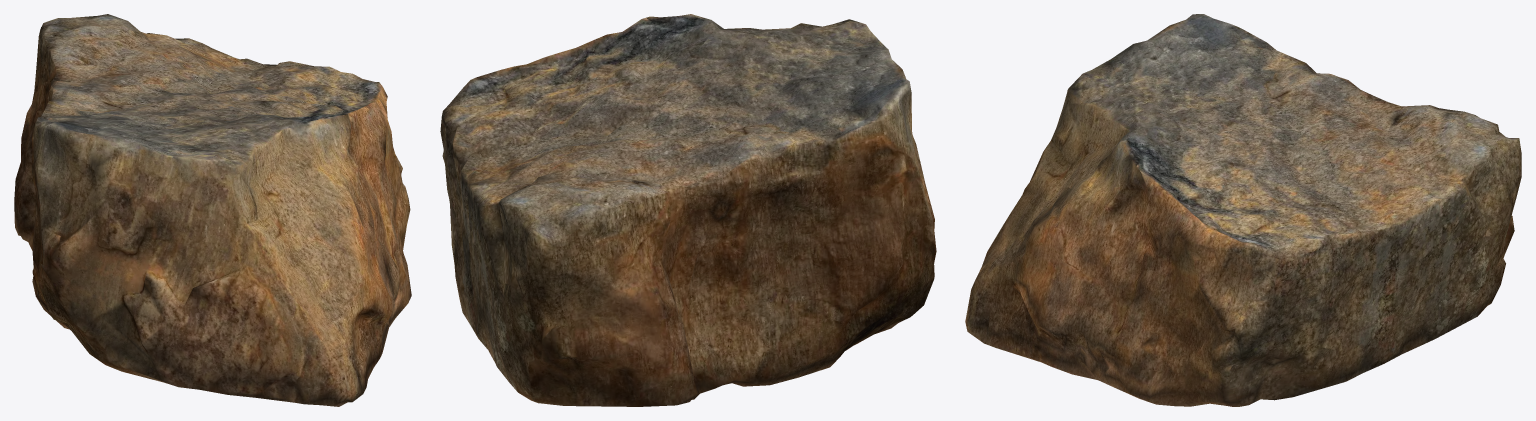
The model's file is p_boulder3.glb.
3 views of the same model, side by side, from view 1: azimuth 30°, elevation 25°; view 2: azimuth 150°, elevation 25°; view 3: azimuth 270°, elevation 25° (orthographic). The views are drawn at different scales.
Parts seen in each view (by area): view 1: boulder_03_LOD0; view 2: boulder_03_LOD0; view 3: boulder_03_LOD0.
Boxes of the visible parts, x1=… form: boulder_03_LOD0: x1=14, y1=14, x2=411, y2=406; boulder_03_LOD0: x1=440, y1=14, x2=936, y2=406; boulder_03_LOD0: x1=965, y1=14, x2=1521, y2=406.
Bounding box in the file's own units: 2.4 × 1.47 × 3.06.
Materials: 1 (1 with a texture image).
